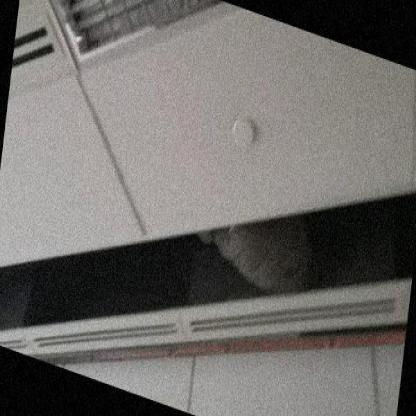light_off: (34, 0, 253, 125)
